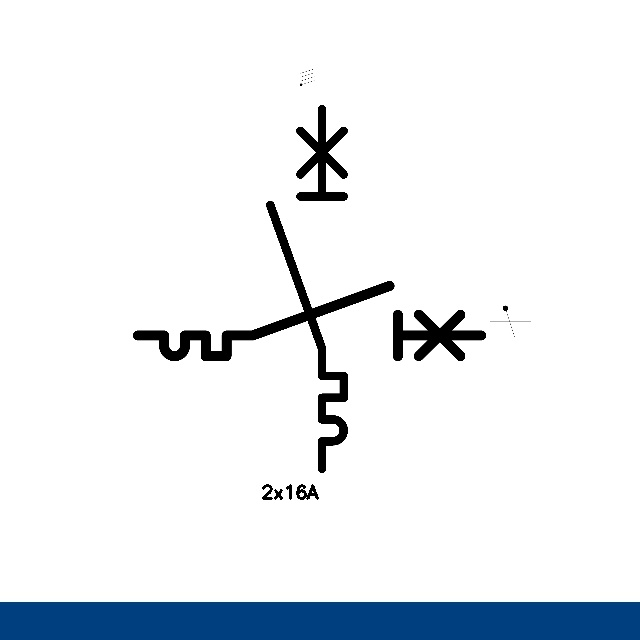interruptor_termomagnetico: (261, 99, 353, 478), (129, 277, 490, 365)
